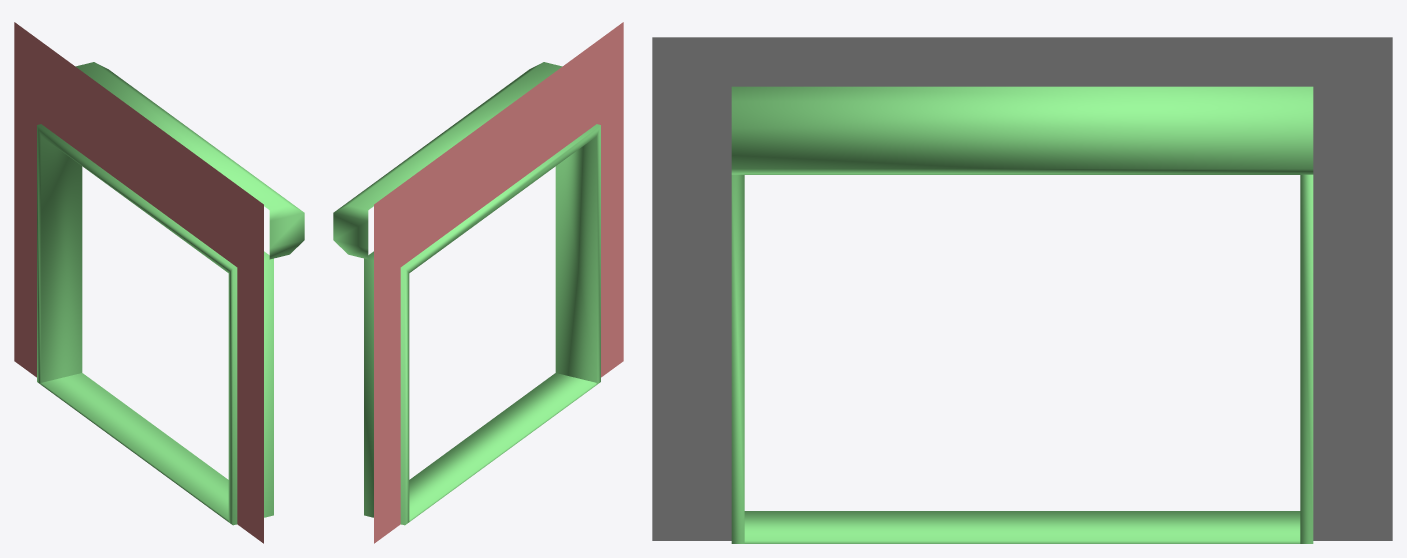
File: SM_wallGarageDoor_01.gltf
3 views of the same model, side by side, from view 1: azimuth 30°, elevation 25°; view 2: azimuth 150°, elevation 25°; view 3: azimuth 270°, elevation 25° (orthographic). The views are drawn at different scales.
Parts seen in each view (by area): view 1: SM_wallGarageDoor_01; view 2: SM_wallGarageDoor_01; view 3: SM_wallGarageDoor_01.
Boxes of the visible parts, left/top/right/bottom form: SM_wallGarageDoor_01: left=14, top=22, right=304, bottom=543; SM_wallGarageDoor_01: left=333, top=22, right=623, bottom=543; SM_wallGarageDoor_01: left=652, top=37, right=1392, bottom=543.
Size of the model in its own units: 0.6626 by 3 by 4.
